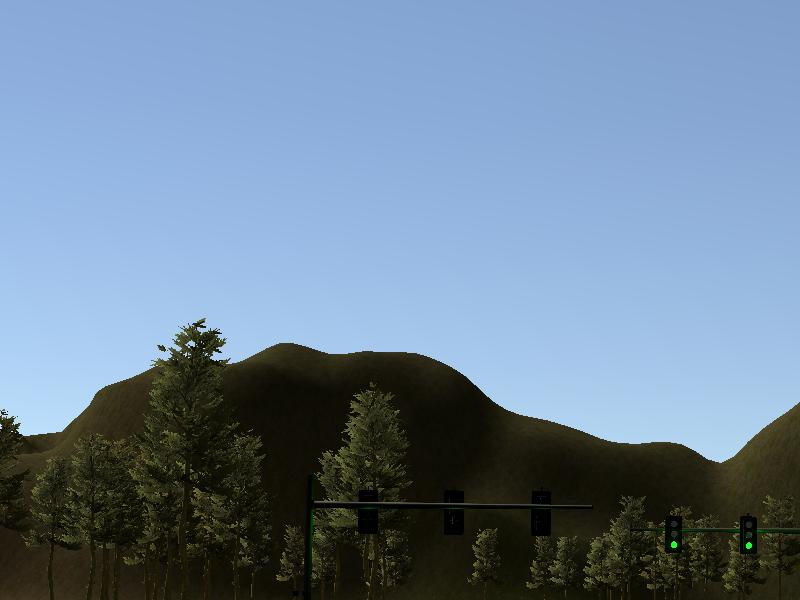Green: (740, 517, 757, 555), (666, 517, 681, 554)
